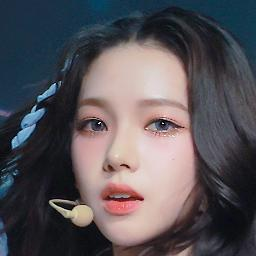face: (86, 54, 188, 238)
